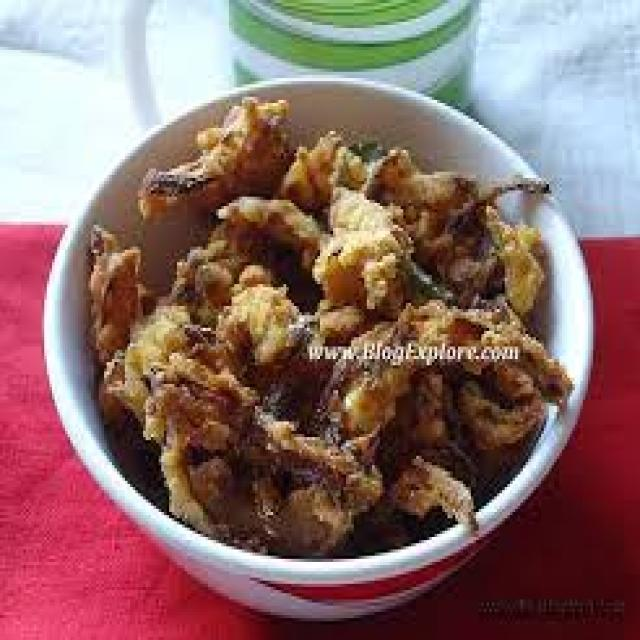BAJI: (86, 103, 571, 557)
